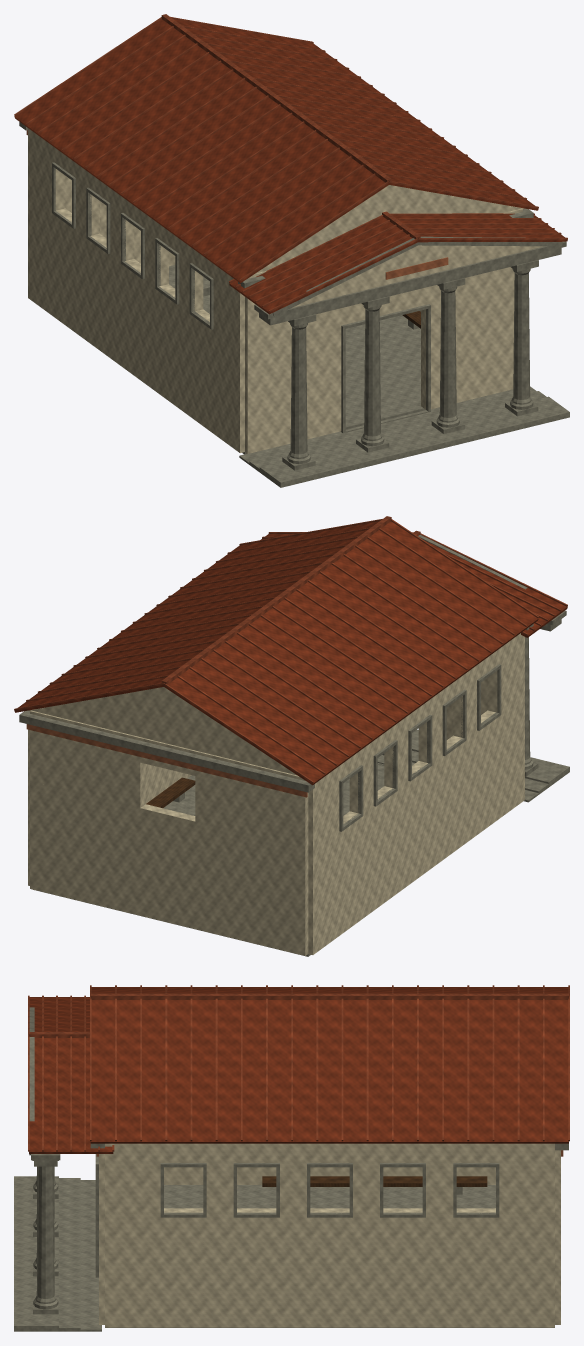
File: basilica_lod1.glb
3 views of the same model, one above another, from view 1: azimuth 30°, elevation 25°; view 2: azimuth 150°, elevation 25°; view 3: azimuth 270°, elevation 25° (orthographic). The views are drawn at different scales.
Visible parts, largest first — view 1: basilica_lod1; view 2: basilica_lod1; view 3: basilica_lod1.
Part boxes in pixels (x1,y1,x2,y2): basilica_lod1: (14, 14, 569, 487); basilica_lod1: (14, 516, 569, 956); basilica_lod1: (14, 985, 569, 1331).
Size of the model in its own units: 13.04 by 10.27 by 19.76.
6 materials, 6 textured.
